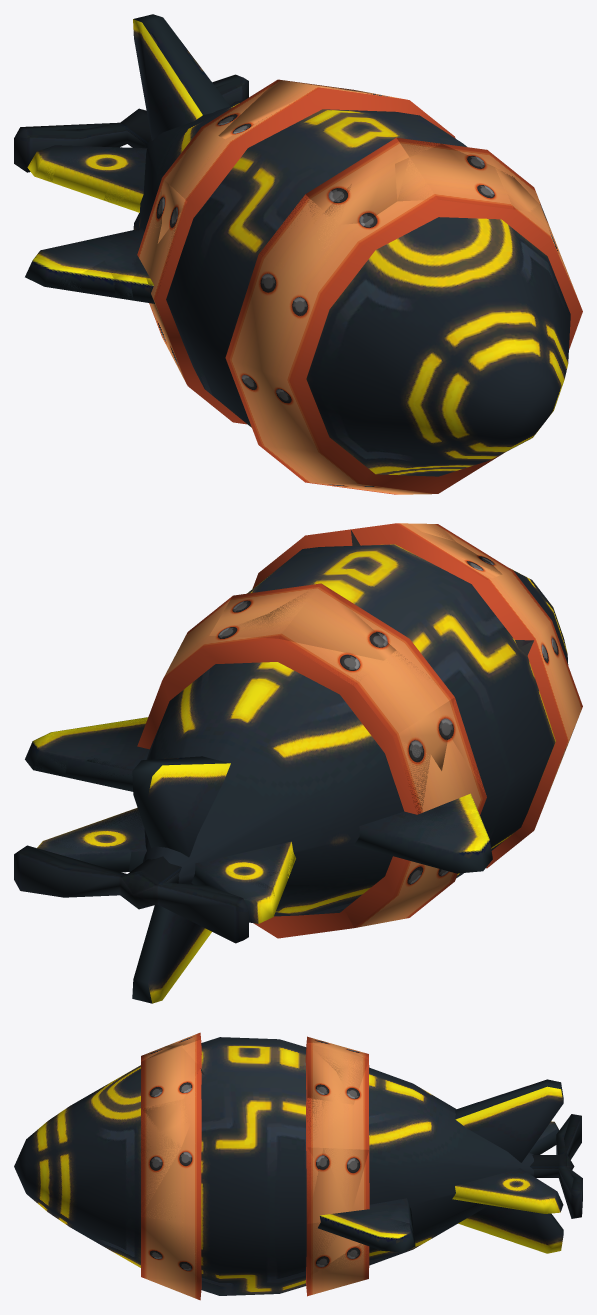
The model's file is DDT.fbx.
The picture shows the model from 3 angles, top to bottom: view 1: azimuth 30°, elevation 25°; view 2: azimuth 150°, elevation 25°; view 3: azimuth 270°, elevation 25°; orthographic projection. The views are drawn at different scales.
Parts seen in each view (by area): view 1: Body, Fortification, Fortification4, Fortification2, FinRightDamage, BrokenPropeller, FinRight, Fortification3, Body3, Fortification1, Propeller; view 2: Body, Fortification, Fortification1, Fortification4, FinRight, BrokenPropeller, Fortification2, Fortification3, Propeller, FinRightDamage, Body2, Body3 (+1 smaller); view 3: Body, Fortification, Fortification2, Fortification4, Fortification3, Fortification1, Body1, BrokenPropeller, Propeller, Body2.
Part boxes in pixels (<box>): Body: <box>27,14,570,476</box>; Fortification: <box>137,80,582,494</box>; Fortification4: <box>191,79,513,255</box>; Fortification2: <box>259,85,437,259</box>; FinRightDamage: <box>41,228,154,302</box>; BrokenPropeller: <box>14,74,248,172</box>; FinRight: <box>25,228,154,303</box>; Fortification3: <box>137,168,550,296</box>; Body3: <box>35,145,145,212</box>; Fortification1: <box>204,87,581,307</box>; Propeller: <box>20,78,243,130</box>; Body: <box>25,544,568,1003</box>; Fortification: <box>162,523,582,938</box>; Fortification1: <box>137,638,417,927</box>; Fortification4: <box>209,523,533,694</box>; FinRight: <box>354,793,492,873</box>; BrokenPropeller: <box>14,845,248,943</box>; Fortification2: <box>209,523,502,638</box>; Fortification3: <box>393,697,486,814</box>; Propeller: <box>28,845,242,943</box>; FinRightDamage: <box>360,797,488,851</box>; Body2: <box>45,808,146,871</box>; Body3: <box>199,843,295,915</box>; Body: <box>14,1037,563,1295</box>; Fortification: <box>141,1036,369,1300</box>; Fortification2: <box>143,1032,369,1277</box>; Fortification4: <box>141,1040,368,1222</box>; Fortification3: <box>141,1100,367,1280</box>; Fortification1: <box>141,1040,369,1222</box>; Body1: <box>322,1199,415,1244</box>; BrokenPropeller: <box>530,1114,582,1218</box>; Propeller: <box>558,1114,581,1218</box>; Body2: <box>457,1177,548,1199</box>.
Size of the model in its own units: 35.34 by 26.31 by 53.46.
2 materials, 2 textured.
